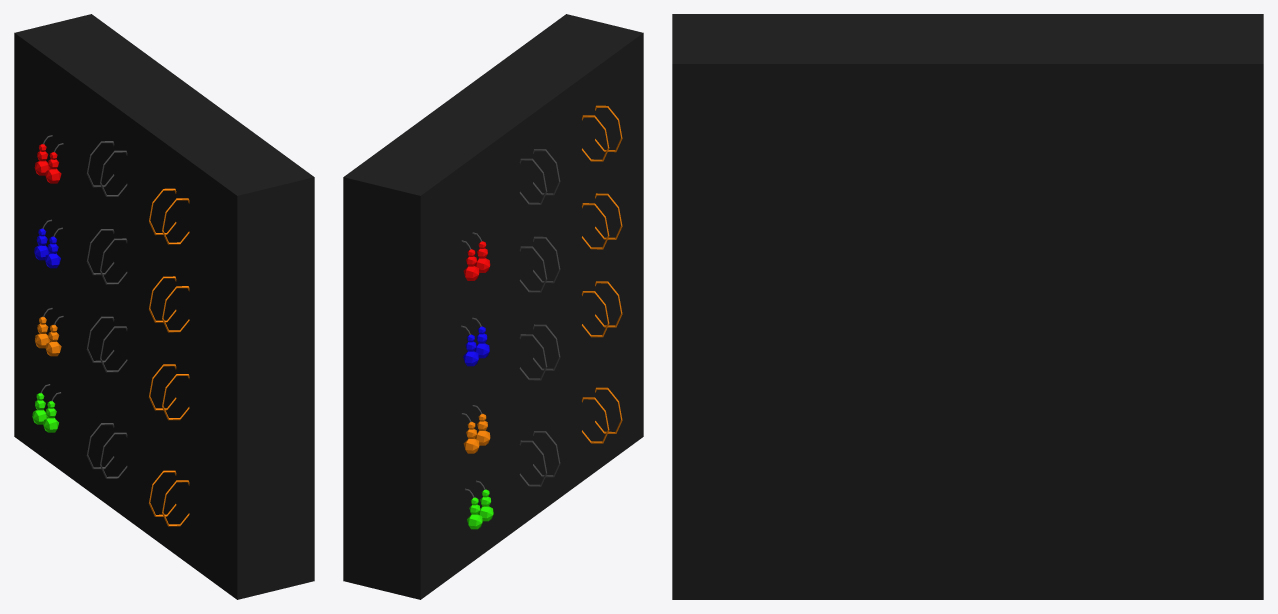
The model's file is earringsSmall.FBX.
3 views of the same model, side by side, from view 1: azimuth 30°, elevation 25°; view 2: azimuth 150°, elevation 25°; view 3: azimuth 270°, elevation 25° (orthographic). The views are drawn at different scales.
Visible parts, largest first — view 1: Object001, Object005; view 2: Object001, Object005; view 3: Object001.
Part boxes in pixels (x1,y1,x2,y2): Object001: (14,14,314,599); Object005: (32,135,189,526); Object001: (343,14,643,599); Object005: (461,105,622,529); Object001: (672,14,1263,599).
Size of the model in its own units: 0.1352 by 0.5 by 0.5.
